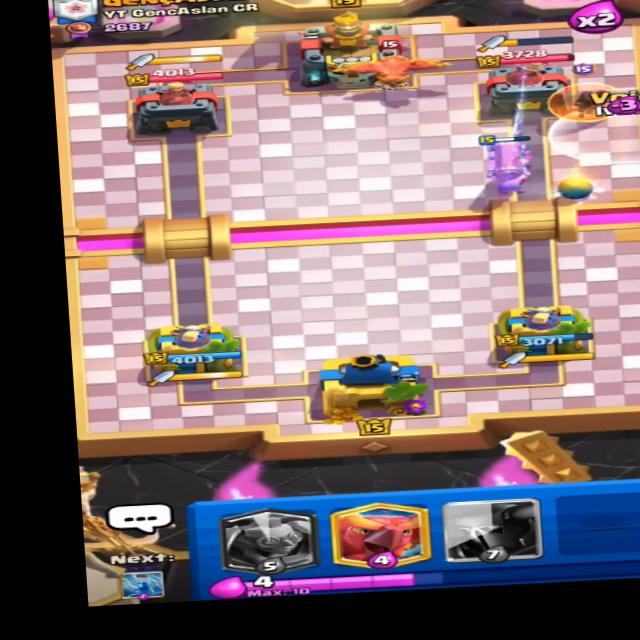evo-wizard: (544, 69, 636, 125)
phoenix: (327, 35, 449, 93)
